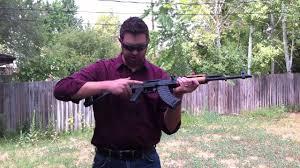Gun: (131, 74, 253, 101)
